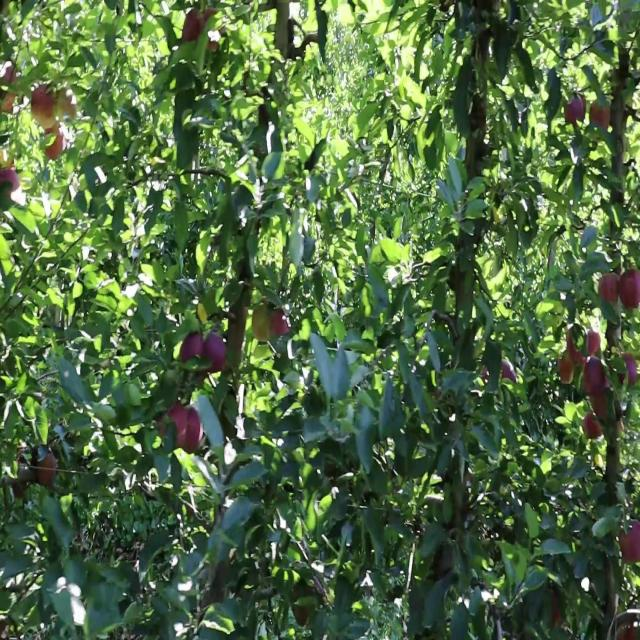apple: (164, 405, 204, 455), (164, 405, 189, 452), (180, 334, 207, 377), (32, 85, 55, 124), (568, 334, 596, 366), (208, 334, 228, 377), (184, 412, 204, 455), (200, 14, 222, 52), (620, 270, 640, 311), (200, 7, 219, 50), (252, 305, 272, 345), (620, 526, 640, 565), (44, 127, 65, 164), (584, 362, 606, 395), (592, 99, 612, 132), (180, 14, 201, 44), (564, 99, 587, 126), (620, 355, 638, 389), (0, 170, 20, 199), (584, 412, 604, 441), (40, 455, 57, 489), (568, 334, 586, 366), (600, 277, 619, 306), (272, 312, 291, 340), (592, 391, 609, 420), (60, 92, 77, 119), (584, 334, 601, 359), (552, 590, 563, 628), (560, 355, 574, 384), (588, 334, 601, 359), (4, 63, 16, 89), (504, 362, 517, 384), (4, 92, 16, 114), (12, 483, 27, 500)
